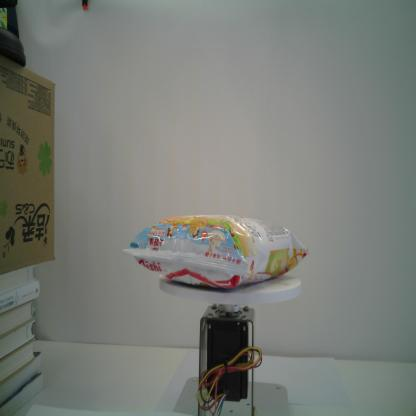Puffed Food: (122, 215, 311, 289)
